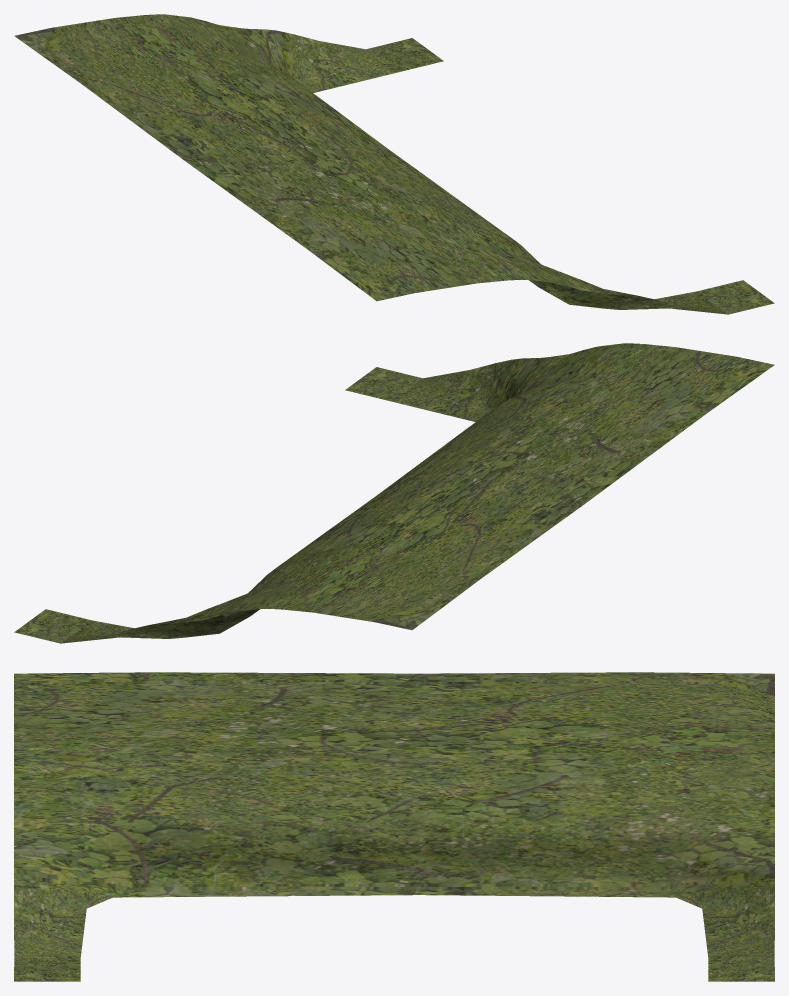
Rendered from GrassSlopeBench.fbx.
3 views of the same model, one above another, from view 1: azimuth 30°, elevation 25°; view 2: azimuth 150°, elevation 25°; view 3: azimuth 270°, elevation 25° (orthographic). The views are drawn at different scales.
Visible parts, largest first — view 1: GrassSlope_BenchArea_doneExport; view 2: GrassSlope_BenchArea_doneExport; view 3: GrassSlope_BenchArea_doneExport.
Part boxes in pixels (box(x1,y1,x2,y2)): GrassSlope_BenchArea_doneExport: box(14, 14, 774, 314); GrassSlope_BenchArea_doneExport: box(14, 343, 774, 643); GrassSlope_BenchArea_doneExport: box(14, 672, 774, 981).
Size of the model in its own units: 318 by 76.69 by 502.
1 material, 1 textured.
